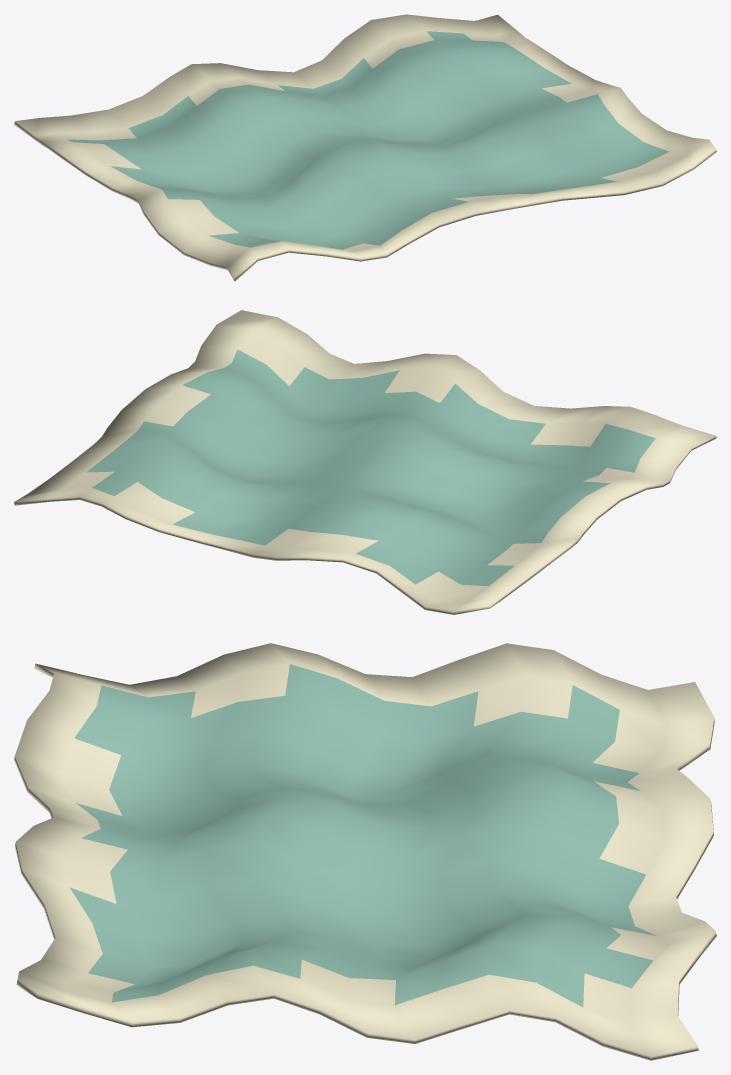
File: Pano.fbx
3 renders of one model, top to bottom at view 1: azimuth 30°, elevation 25°; view 2: azimuth 150°, elevation 25°; view 3: azimuth 270°, elevation 25°, orthographic. The views are drawn at different scales.
Parts seen in each view (by area): view 1: Pano; view 2: Pano; view 3: Pano.
Boxes of the visible parts, x1,y1,x2,y2 form: Pano: (14,14,716,281); Pano: (14,310,716,614); Pano: (14,643,716,1060).
Bounding box in the file's own units: 37.61 × 3.04 × 30.9.
